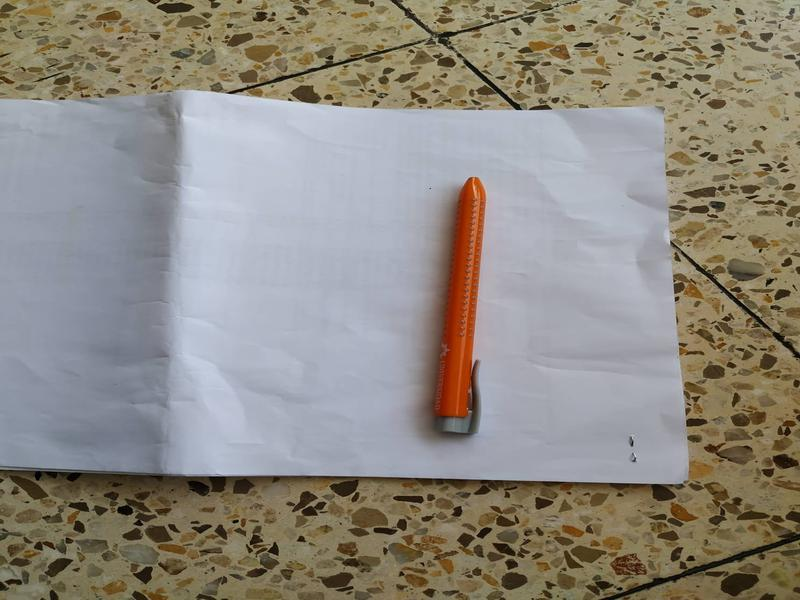qillqana: (431, 165, 495, 439)
